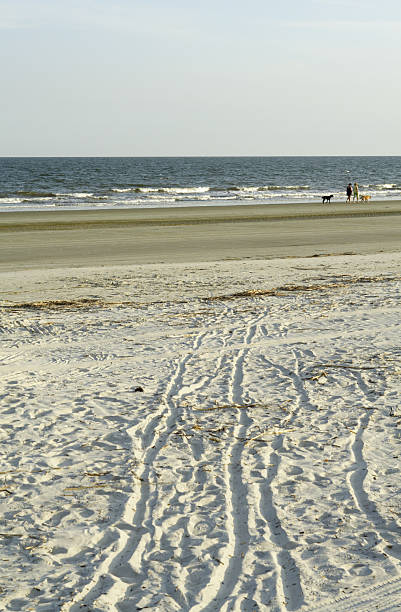vehicle_track: (69, 331, 206, 611), (191, 312, 264, 611)
